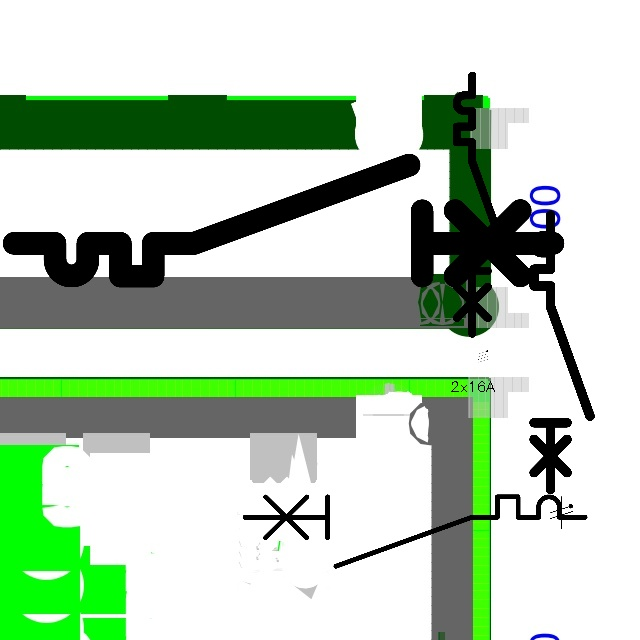interruptor_termomagnetico: (0, 151, 567, 290), (236, 488, 594, 575), (527, 208, 597, 496), (450, 69, 516, 340)
